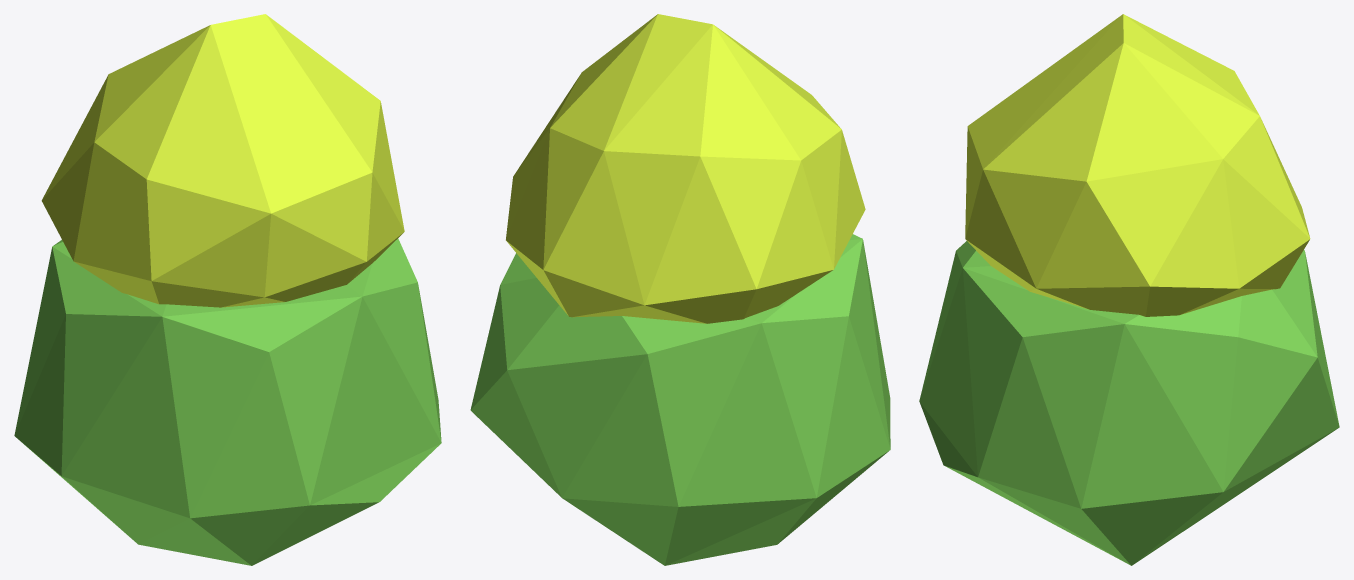
Rendered from Arbusto 3.fbx.
3 views of the same model, side by side, from view 1: azimuth 30°, elevation 25°; view 2: azimuth 150°, elevation 25°; view 3: azimuth 270°, elevation 25° (orthographic). The views are drawn at different scales.
Parts seen in each view (by area): view 1: Arbusto7, Arbusto8; view 2: Arbusto7, Arbusto8; view 3: Arbusto7, Arbusto8.
Part boxes in pixels (box(x1,y1,x2,y2)): Arbusto7: box(14, 238, 441, 565); Arbusto8: box(41, 14, 404, 307); Arbusto7: box(470, 234, 890, 565); Arbusto8: box(506, 14, 865, 323); Arbusto7: box(919, 241, 1339, 565); Arbusto8: box(965, 14, 1310, 316).
Bounding box in the file's own units: 1559 × 2063 × 1580.
